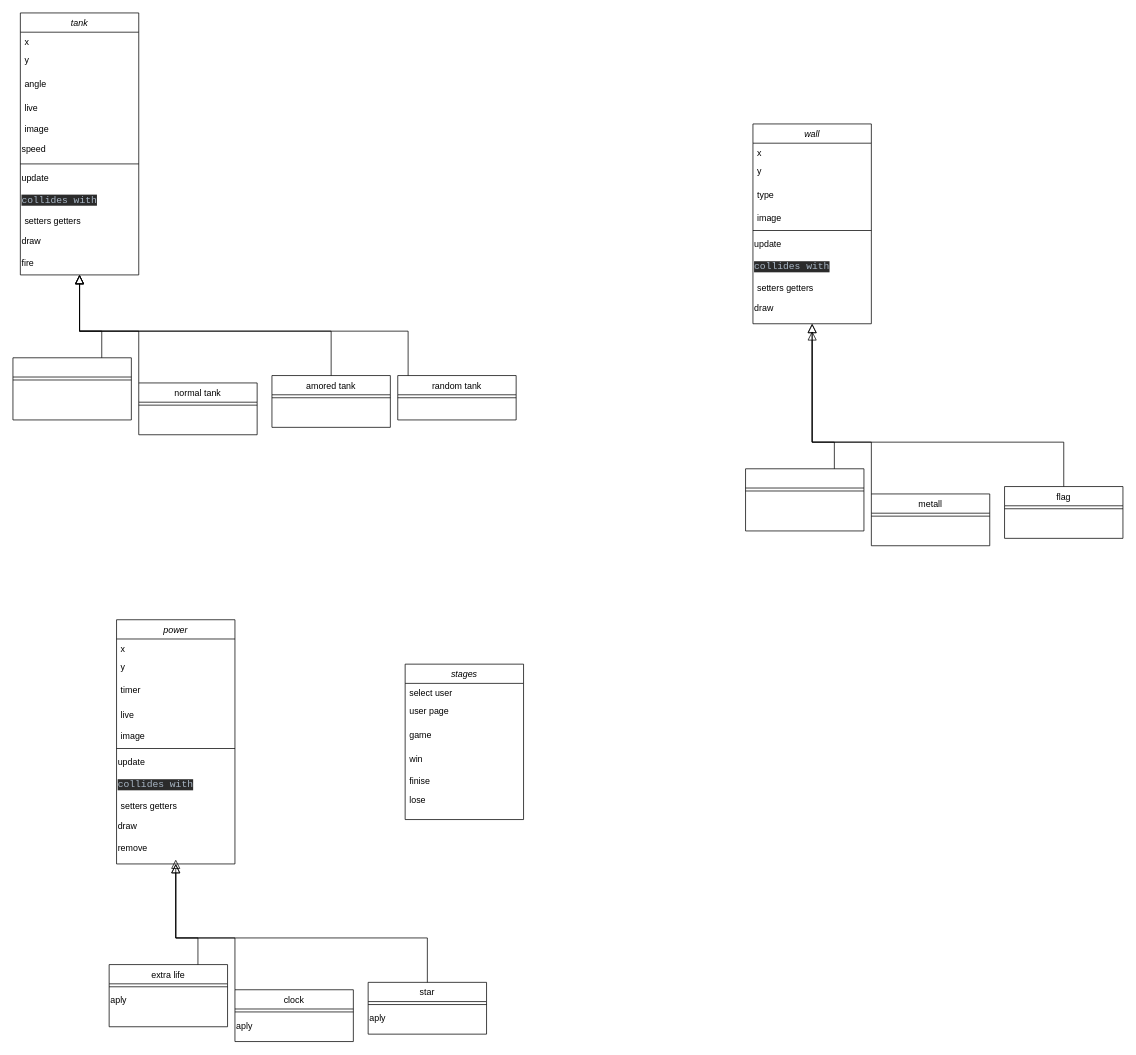
Image size: 1136x1055. Some labels were removed from this diagram. The shapes that lost their labels are listed below. From the top down, each one's centre as x and y in pixels, then its label:
At point 71,388: "playerTank".
At point 804,499: "brick".
